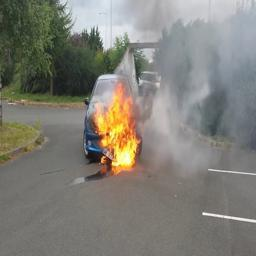fire: (93, 83, 140, 171)
